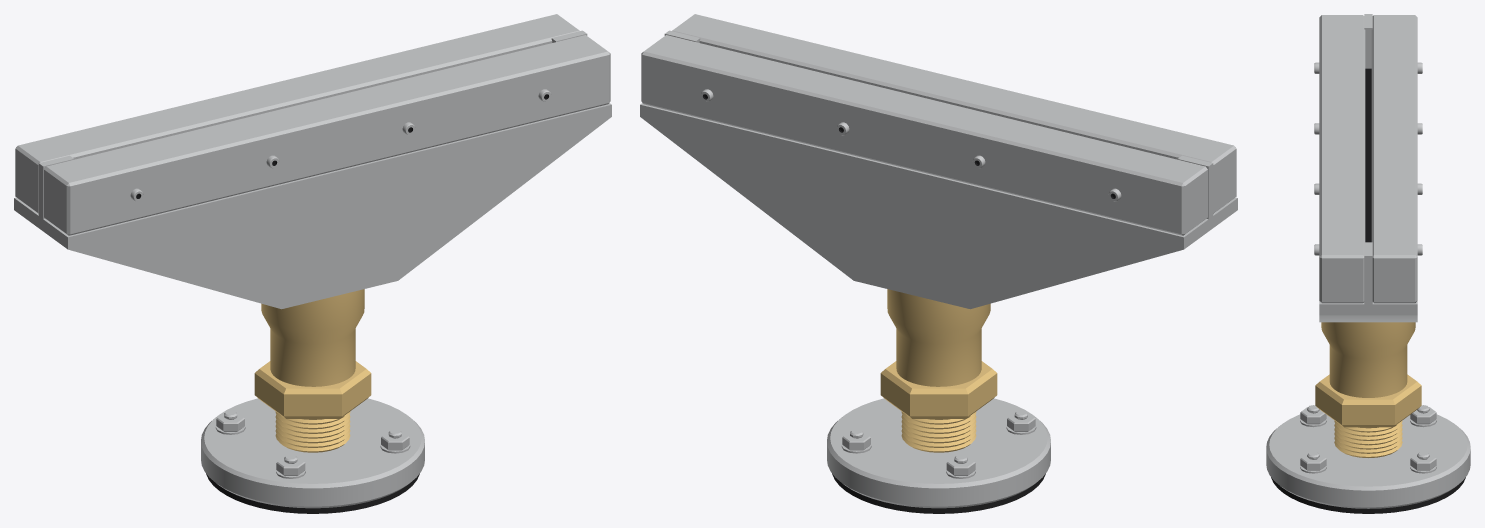
File: nozzle_fan_dn25.glb
3 renders of one model, left to right at view 1: azimuth 30°, elevation 25°; view 2: azimuth 150°, elevation 25°; view 3: azimuth 270°, elevation 25°, orthographic. The views are drawn at different scales.
Parts seen in each view (by area): view 1: Nozzle_Body; view 2: Nozzle_Body; view 3: Nozzle_Body.
Part boxes in pixels (x1,y1,x2,y2): Nozzle_Body: (14,14,611,513); Nozzle_Body: (640,14,1237,513); Nozzle_Body: (1266,14,1470,513).
Size of the model in its own units: 0.28 by 0.182 by 0.1.
